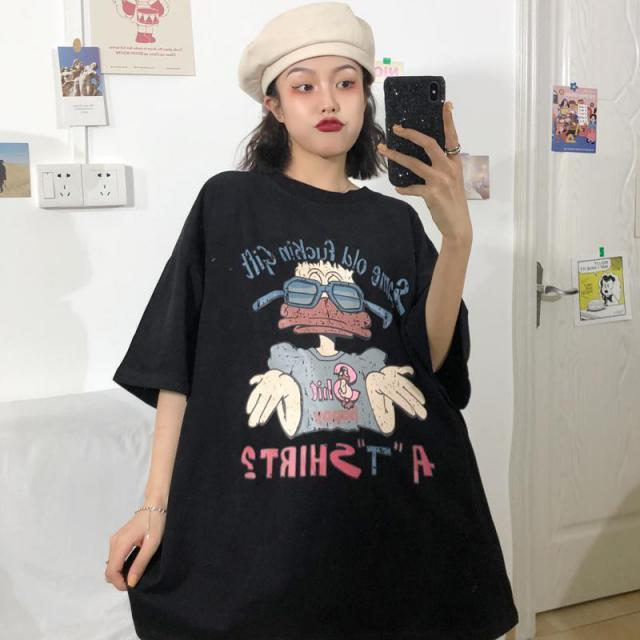Shirt: (106, 163, 532, 639)
